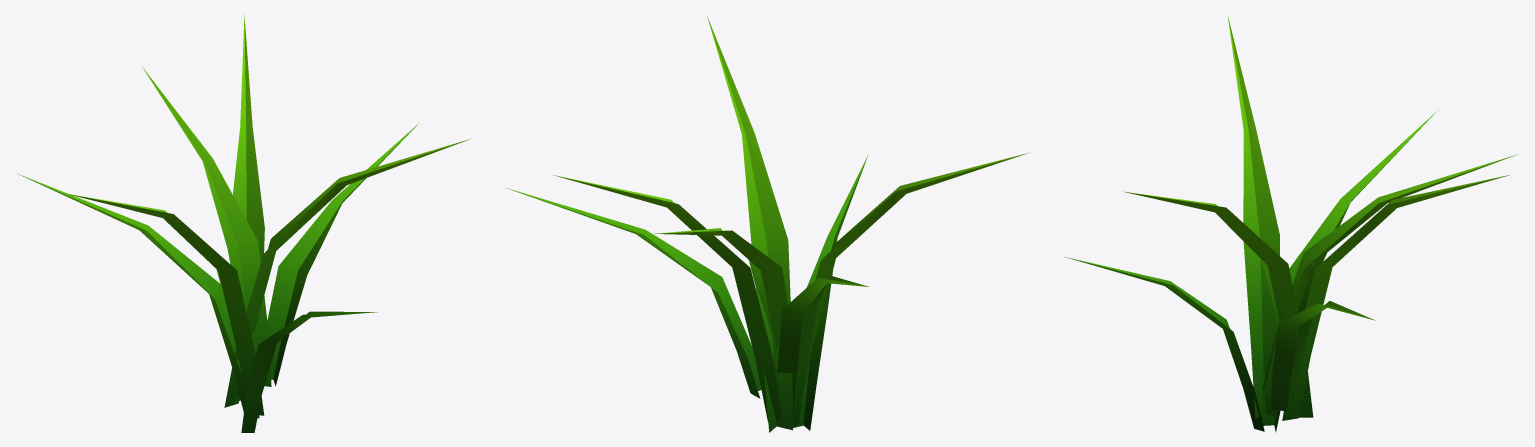
File: Grass.fbx
3 views of the same model, side by side, from view 1: azimuth 30°, elevation 25°; view 2: azimuth 150°, elevation 25°; view 3: azimuth 270°, elevation 25° (orthographic). The views are drawn at different scales.
Visible parts, largest first — view 1: Grass; view 2: Grass; view 3: Grass.
Part boxes in pixels (box(x1,y1,x2,y2)): Grass: box(17, 15, 471, 432); Grass: box(506, 15, 1029, 432); Grass: box(1064, 15, 1518, 432).
Bounding box in the file's own units: 19.61 × 13.27 × 17.45.
